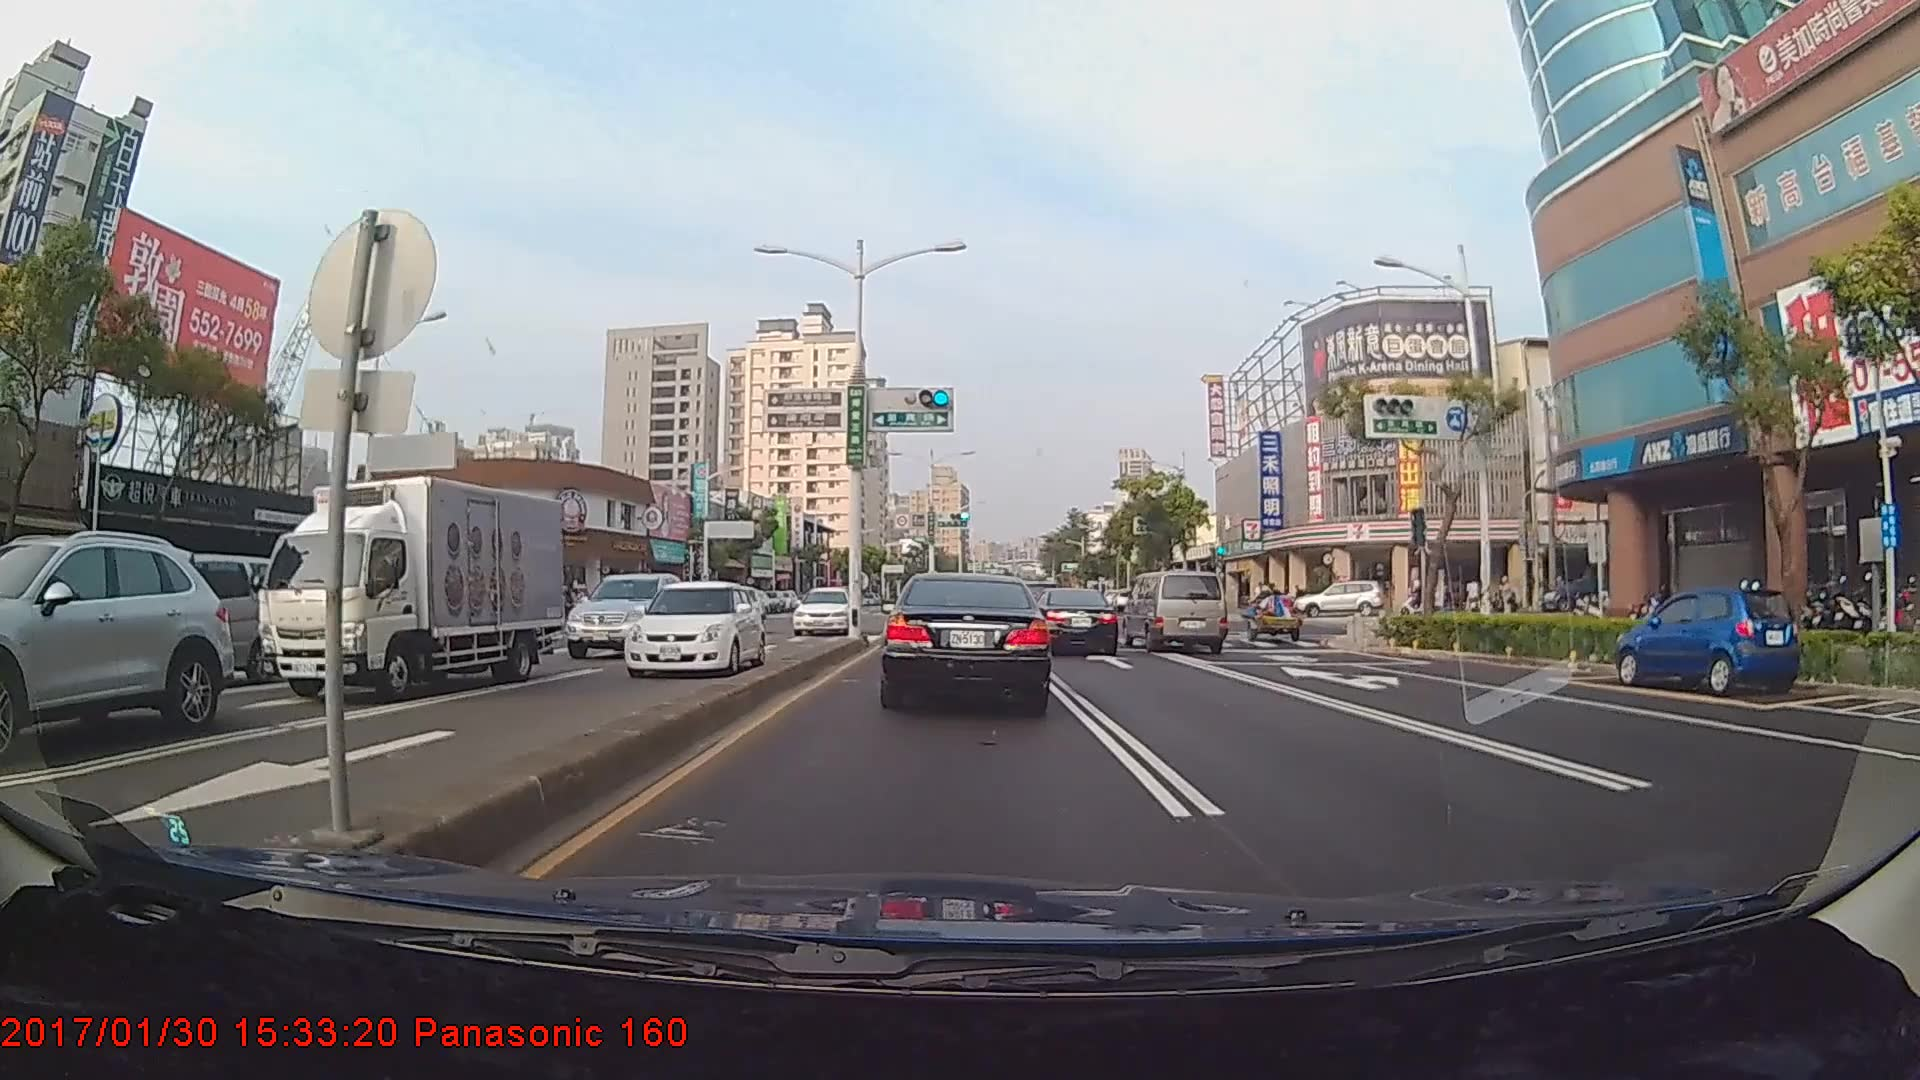vehicle: (244, 464, 578, 709), (0, 531, 229, 757), (881, 571, 1052, 712), (94, 549, 272, 683), (1615, 585, 1797, 696), (621, 578, 767, 676), (555, 566, 687, 658), (1120, 568, 1228, 654), (1034, 587, 1120, 655), (1290, 580, 1386, 618), (790, 584, 857, 636)
